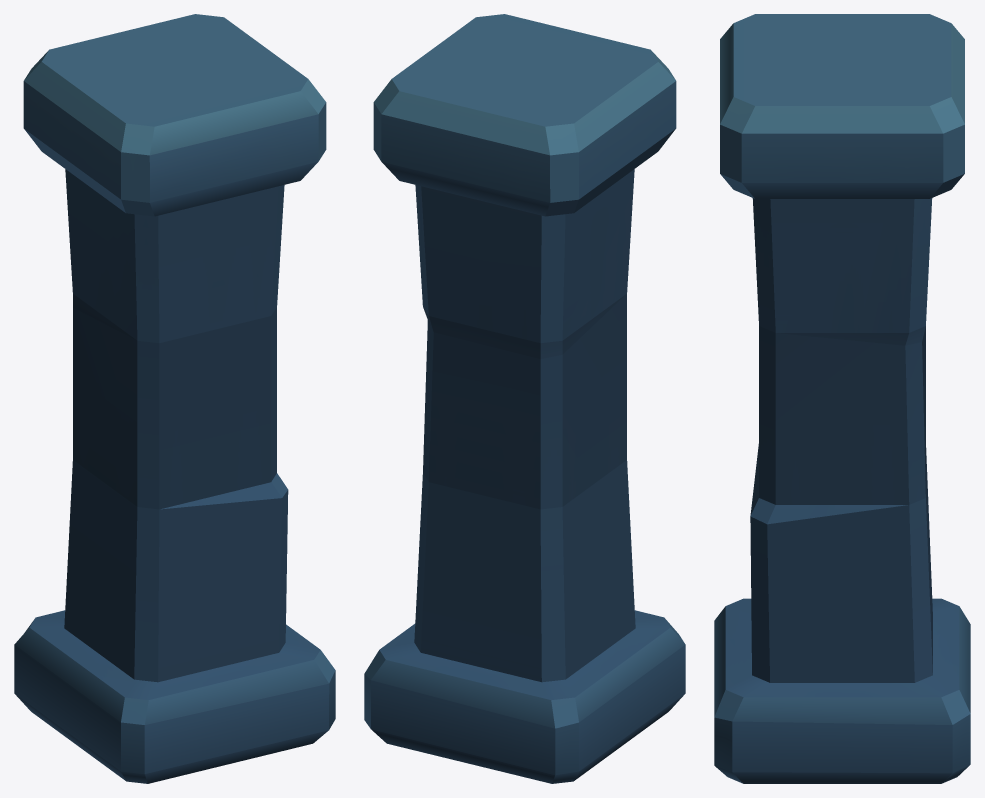
File: pillar_short_slim_1.fbx
3 renders of one model, left to right at view 1: azimuth 30°, elevation 25°; view 2: azimuth 150°, elevation 25°; view 3: azimuth 270°, elevation 25°, orthographic. The views are drawn at different scales.
Visible parts, largest first — view 1: pillar_short_slim_1; view 2: pillar_short_slim_1; view 3: pillar_short_slim_1.
Part boxes in pixels (x1=…): pillar_short_slim_1: x1=14, y1=14, x2=335, y2=783; pillar_short_slim_1: x1=364, y1=14, x2=685, y2=783; pillar_short_slim_1: x1=714, y1=14, x2=970, y2=783.
Bounding box in the file's own units: 70.88 × 206 × 70.88.
